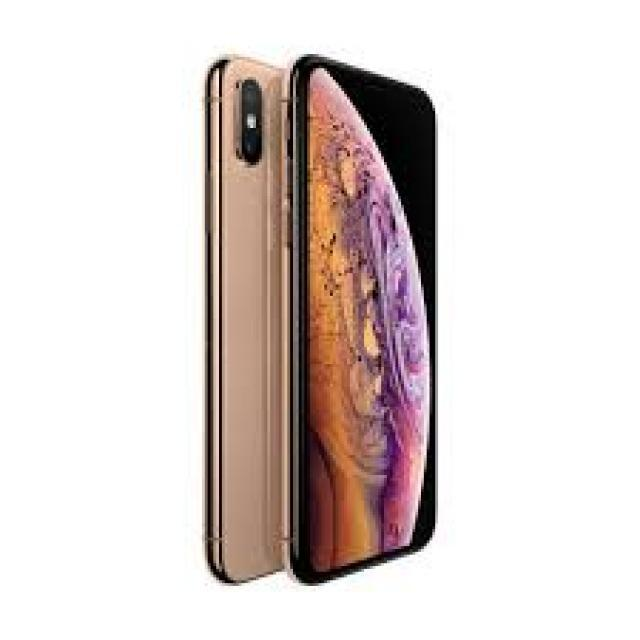phone: (287, 55, 439, 587)
